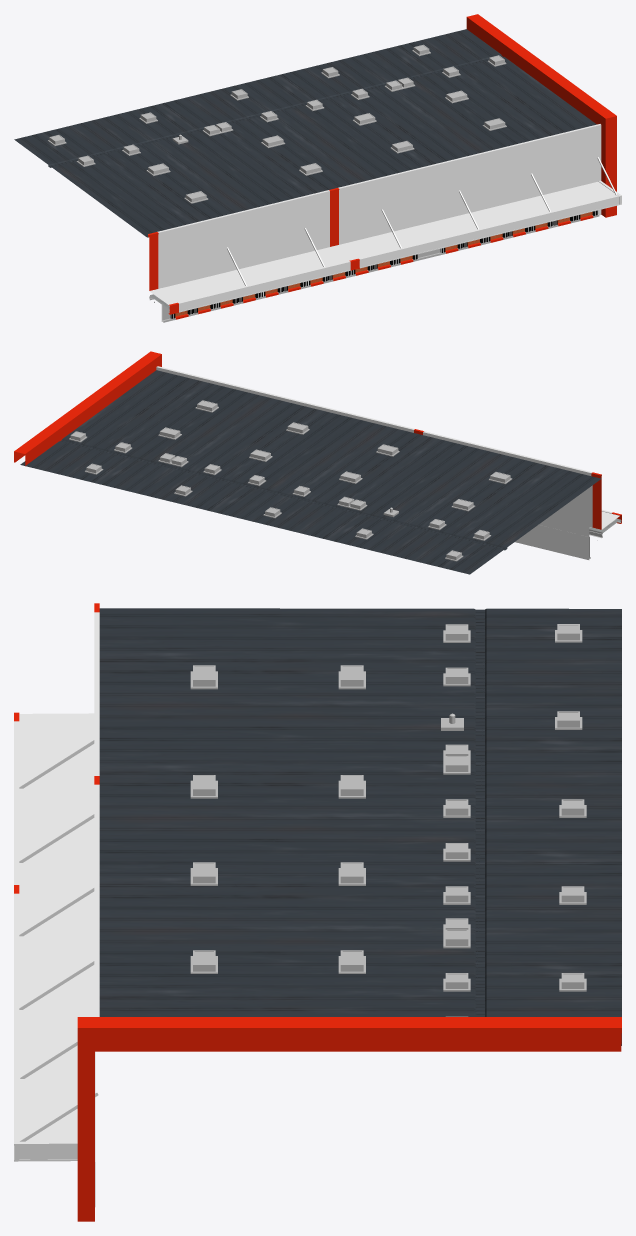
Rendered from SM_TNTBuilding_Part05.fbx.
The picture shows the model from 3 angles, top to bottom: view 1: azimuth 30°, elevation 25°; view 2: azimuth 150°, elevation 25°; view 3: azimuth 270°, elevation 25°; orthographic projection. The views are drawn at different scales.
Parts seen in each view (by area): view 1: SM_TNTBuilding_Part05_LOD0; view 2: SM_TNTBuilding_Part05_LOD0; view 3: SM_TNTBuilding_Part05_LOD0.
Part boxes in pixels (x1,y1,x2,y2): SM_TNTBuilding_Part05_LOD0: [14, 14, 621, 322]; SM_TNTBuilding_Part05_LOD0: [14, 351, 621, 574]; SM_TNTBuilding_Part05_LOD0: [14, 603, 621, 1221].
Size of what is drawn, in the model's own units: 9401 by 1921 by 5443.
